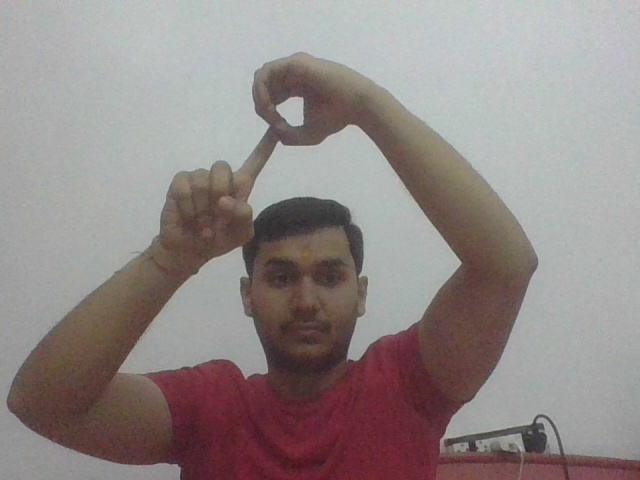Q: (179, 51, 326, 196)
